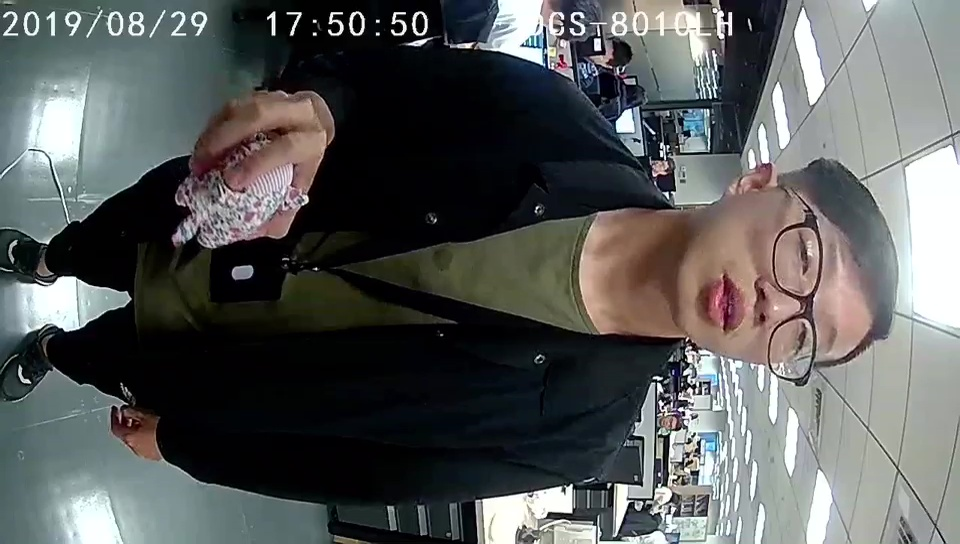pig: (177, 134, 309, 244)
